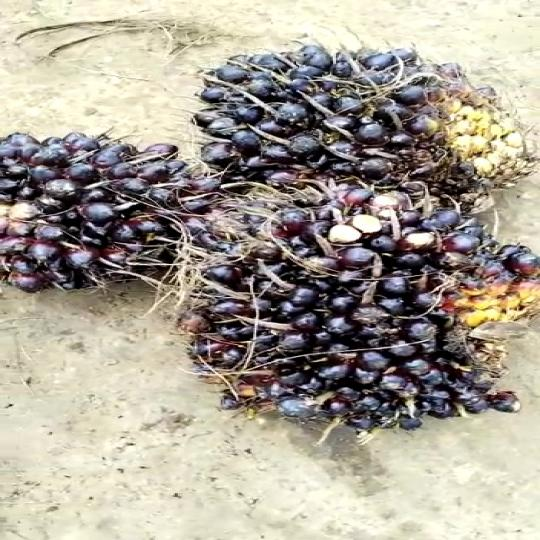mentah: (154, 194, 540, 429), (182, 29, 540, 203), (1, 113, 228, 290)
